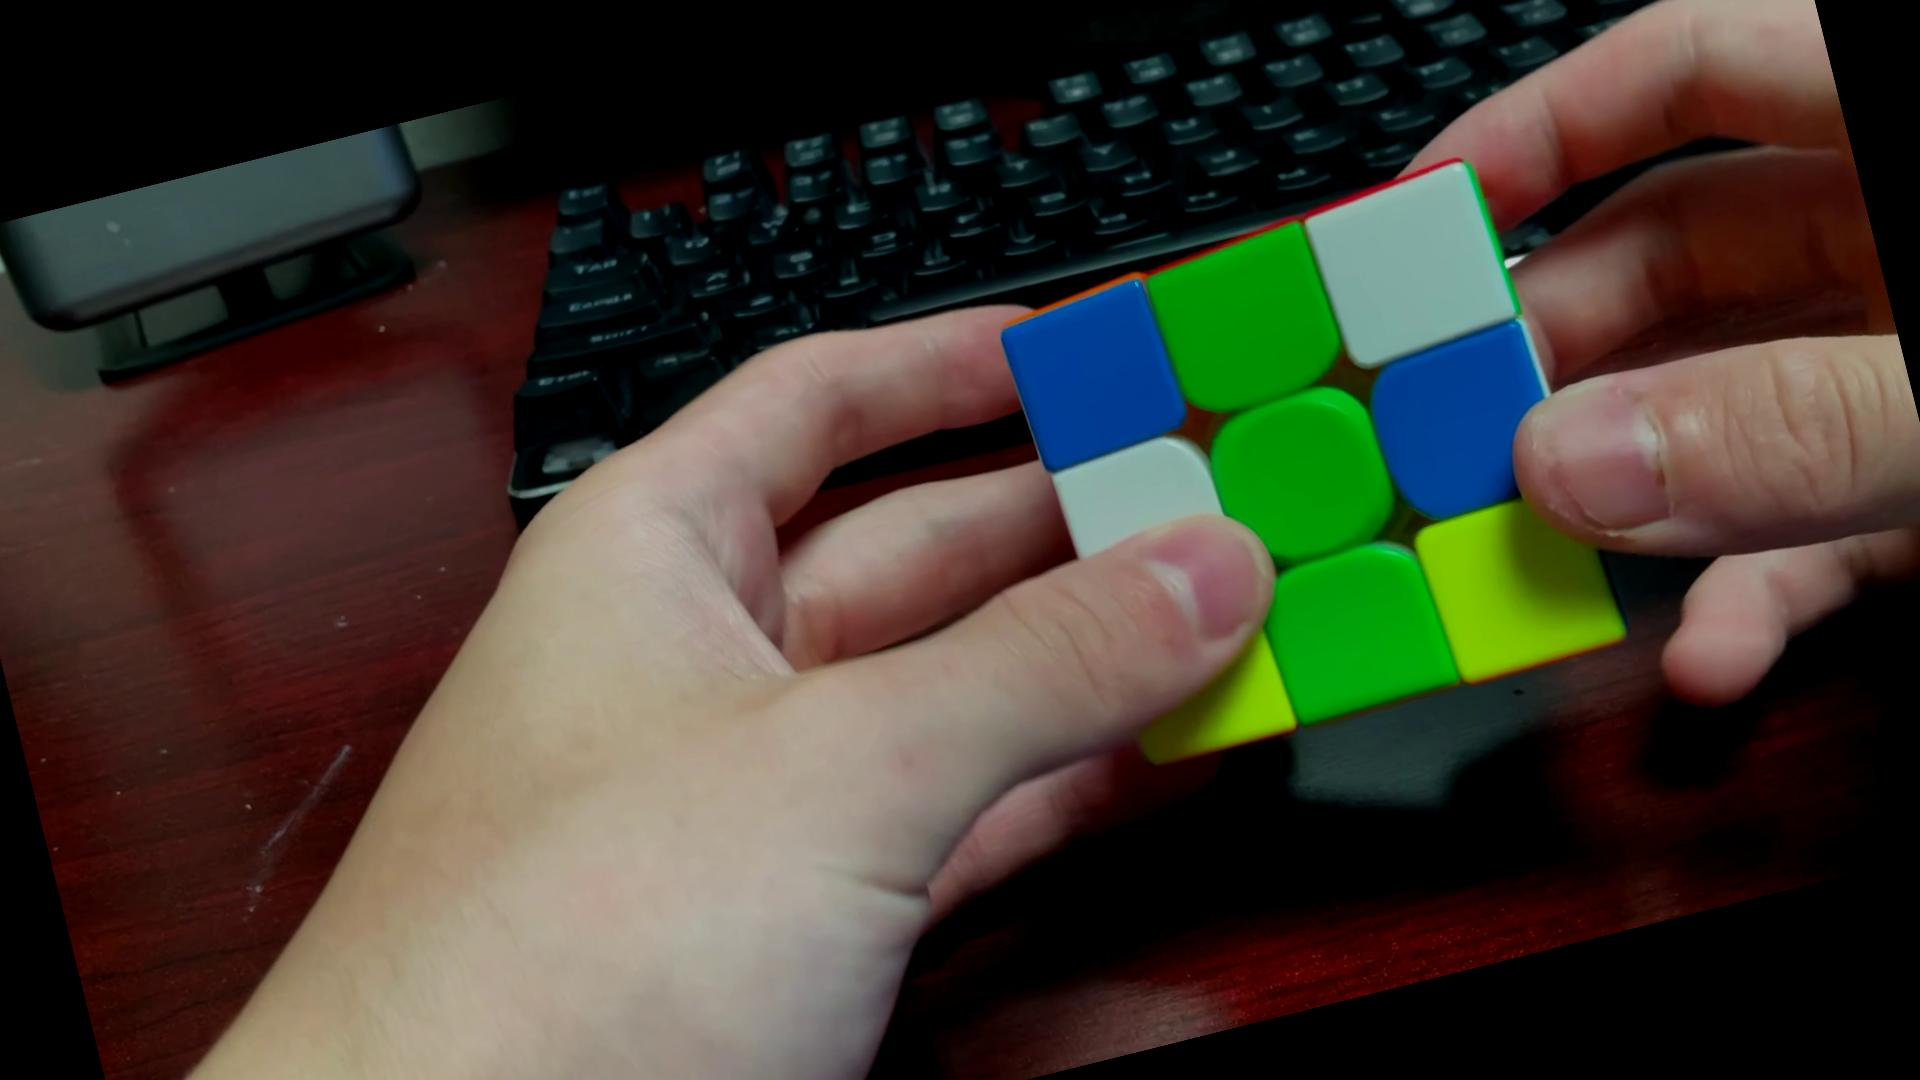Rubiks-Cube: (977, 133, 1639, 778)
